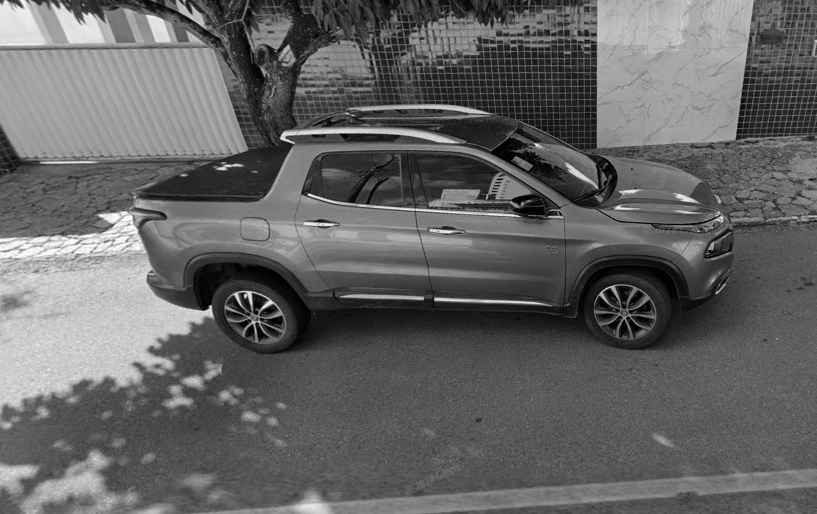car: (129, 89, 738, 356)
